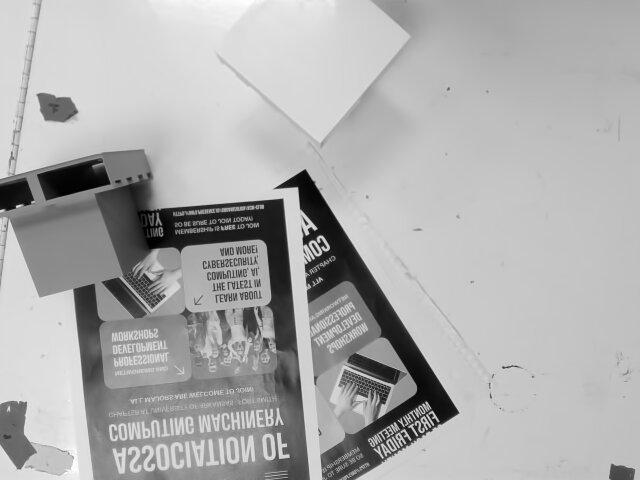grey pallet: (0, 122, 158, 328)
white pallet: (199, 0, 430, 147)
